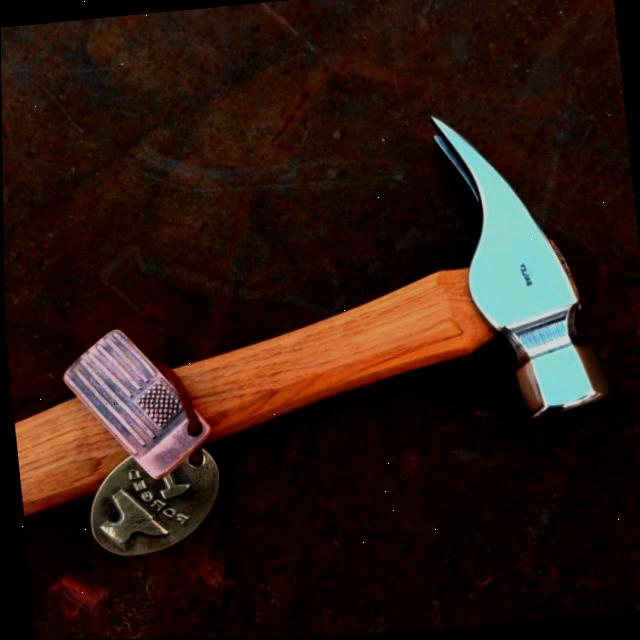hammer: (1, 92, 628, 525)
